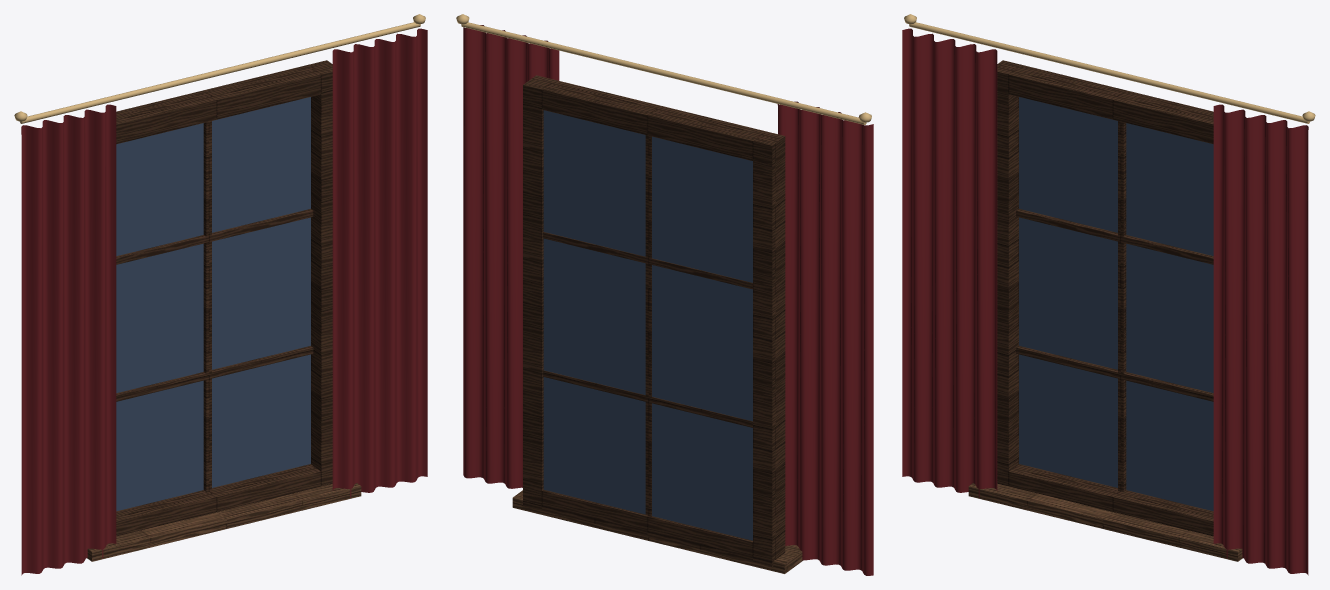
The model's file is janela.glb.
3 renders of one model, left to right at view 1: azimuth 30°, elevation 25°; view 2: azimuth 150°, elevation 25°; view 3: azimuth 330°, elevation 25°, orthographic.
Visible parts, largest first — view 1: janela_vidro, cortina, cortina.001, janela_batente.001, janela_travessa.001, janela_travessa, janela_peitoril, janela_pinazio_v, cortina_varao, janela_pinazio, janela_pinazio.001; view 2: janela_vidro, cortina, cortina.001, janela_batente, janela_batente.001, janela_travessa.001, janela_travessa, cortina_varao, janela_pinazio_v, janela_peitoril, janela_pinazio.001, janela_pinazio; view 3: janela_vidro, cortina.001, cortina, janela_batente, janela_travessa.001, janela_travessa, janela_peitoril, janela_pinazio_v, cortina_varao, janela_pinazio, janela_pinazio.001.
Boxes of the visible parts, left/top/right/bottom form: janela_vidro: left=116, top=97, right=310, bottom=511; cortina: left=21, top=104, right=116, bottom=575; cortina.001: left=332, top=28, right=427, bottom=497; janela_batente.001: left=311, top=76, right=332, bottom=486; janela_travessa.001: left=116, top=60, right=332, bottom=144; janela_travessa: left=116, top=464, right=332, bottom=536; janela_peitoril: left=87, top=483, right=361, bottom=561; janela_pinazio_v: left=203, top=121, right=211, bottom=491; cortina_varao: left=19, top=22, right=420, bottom=123; janela_pinazio: left=116, top=346, right=313, bottom=401; janela_pinazio.001: left=116, top=209, right=313, bottom=264; janela_vidro: left=543, top=110, right=752, bottom=540; cortina: left=777, top=101, right=873, bottom=575; cortina.001: left=463, top=25, right=559, bottom=488; janela_batente: left=753, top=140, right=785, bottom=562; janela_batente.001: left=523, top=89, right=543, bottom=506; janela_travessa.001: left=523, top=75, right=785, bottom=164; janela_travessa: left=523, top=490, right=775, bottom=566; cortina_varao: left=461, top=22, right=866, bottom=124; janela_pinazio_v: left=645, top=135, right=651, bottom=516; janela_peitoril: left=512, top=490, right=803, bottom=573; janela_pinazio.001: left=543, top=232, right=752, bottom=289; janela_pinazio: left=543, top=370, right=752, bottom=427; janela_vidro: left=1019, top=97, right=1213, bottom=511; cortina.001: left=1213, top=104, right=1308, bottom=575; cortina: left=902, top=28, right=997, bottom=497; janela_batente: left=997, top=75, right=1018, bottom=486; janela_travessa.001: left=997, top=60, right=1213, bottom=144; janela_travessa: left=998, top=464, right=1213, bottom=536; janela_peitoril: left=968, top=483, right=1242, bottom=561; janela_pinazio_v: left=1118, top=121, right=1126, bottom=491; cortina_varao: left=909, top=22, right=1310, bottom=123; janela_pinazio: left=1016, top=346, right=1213, bottom=401; janela_pinazio.001: left=1016, top=209, right=1213, bottom=264.
Bounding box in the file's own units: 2.16 × 2.32 × 0.225.
Materials: 5 (2 with a texture image).
